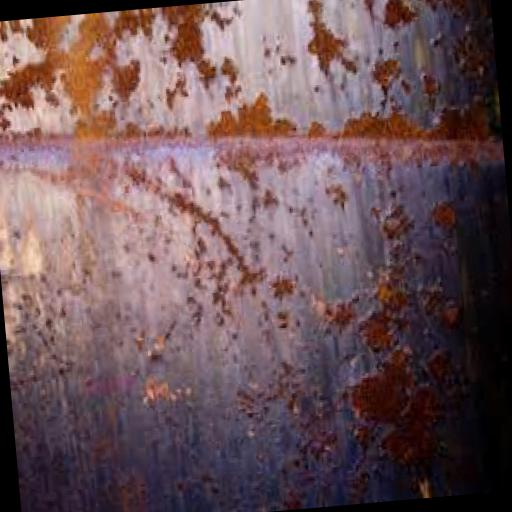segmentation: (345, 190, 471, 466), (0, 2, 234, 137), (307, 22, 502, 136), (180, 56, 300, 176), (386, 0, 470, 24), (425, 203, 454, 255)
